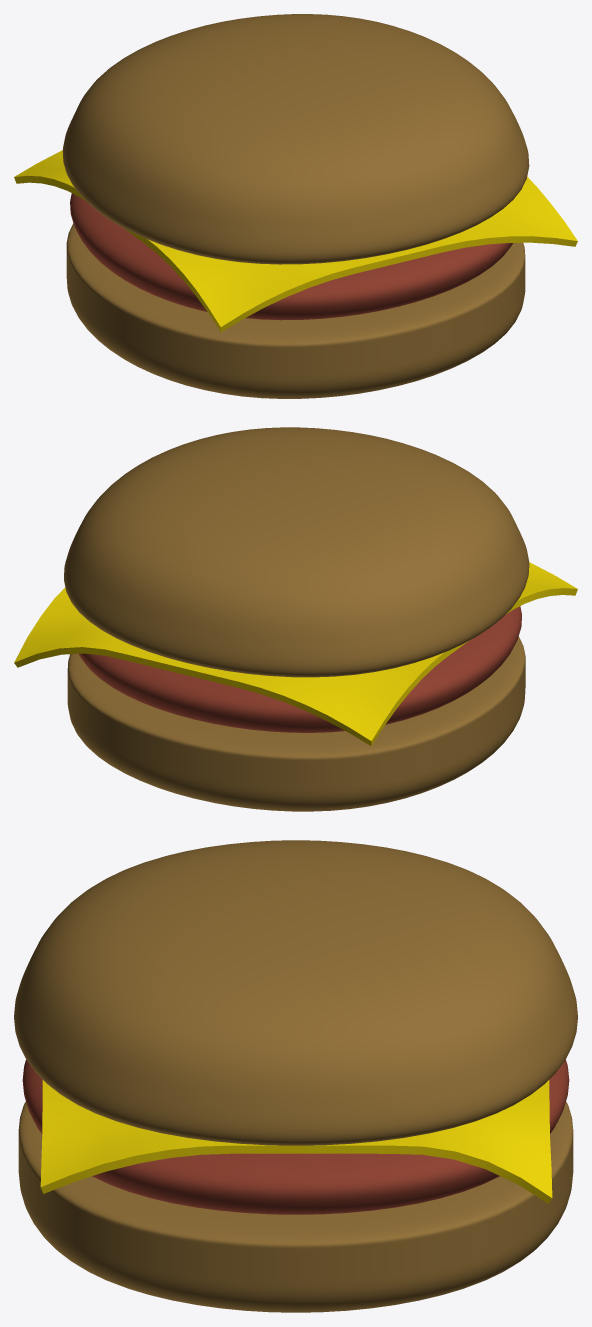
The model's file is hamburger.glb.
3 renders of one model, top to bottom at view 1: azimuth 30°, elevation 25°; view 2: azimuth 150°, elevation 25°; view 3: azimuth 270°, elevation 25°, orthographic. The views are drawn at different scales.
Visible parts, largest first — view 1: Cube.003, Cube.001, Plane, Cube.002; view 2: Cube.003, Cube.001, Plane, Cube.002; view 3: Cube.003, Cube.001, Cube.002, Plane.
Part boxes in pixels (box(x1,y1,x2,y2)): Cube.003: box(62, 14, 529, 264); Cube.001: box(66, 223, 525, 398); Plane: box(14, 150, 577, 332); Cube.002: box(70, 193, 512, 320); Cube.003: box(64, 427, 529, 677); Cube.001: box(67, 636, 525, 811); Plane: box(14, 562, 577, 745); Cube.002: box(79, 606, 521, 732); Cube.003: box(14, 840, 577, 1145); Cube.001: box(18, 1101, 573, 1312); Cube.002: box(22, 1059, 569, 1214); Plane: box(40, 1080, 552, 1203).
Bounding box in the file's own units: 9.54 × 6.12 × 9.54.
